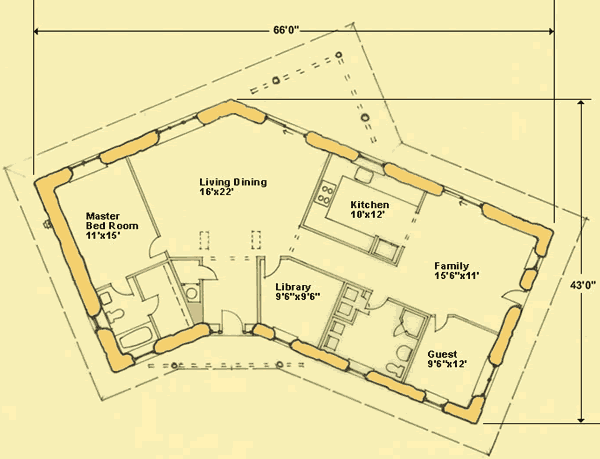door: (108, 276, 136, 300), (144, 234, 170, 259), (360, 290, 388, 312), (260, 255, 285, 279), (219, 309, 244, 333), (500, 288, 529, 305), (141, 294, 162, 317), (198, 262, 219, 283), (434, 312, 452, 334)
large_sink: (382, 361, 408, 380), (104, 306, 125, 324)
